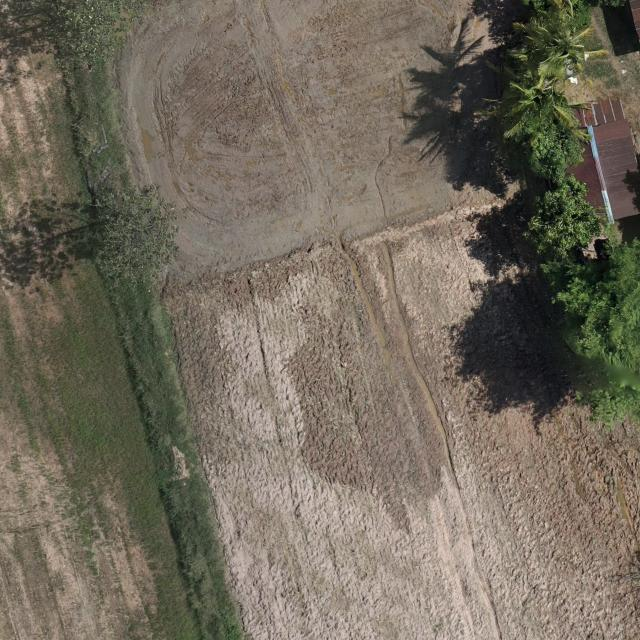Tree: (537, 234, 640, 439), (84, 180, 182, 283), (511, 0, 610, 82), (520, 172, 611, 259), (36, 0, 128, 73), (502, 82, 597, 143), (516, 122, 584, 187)
